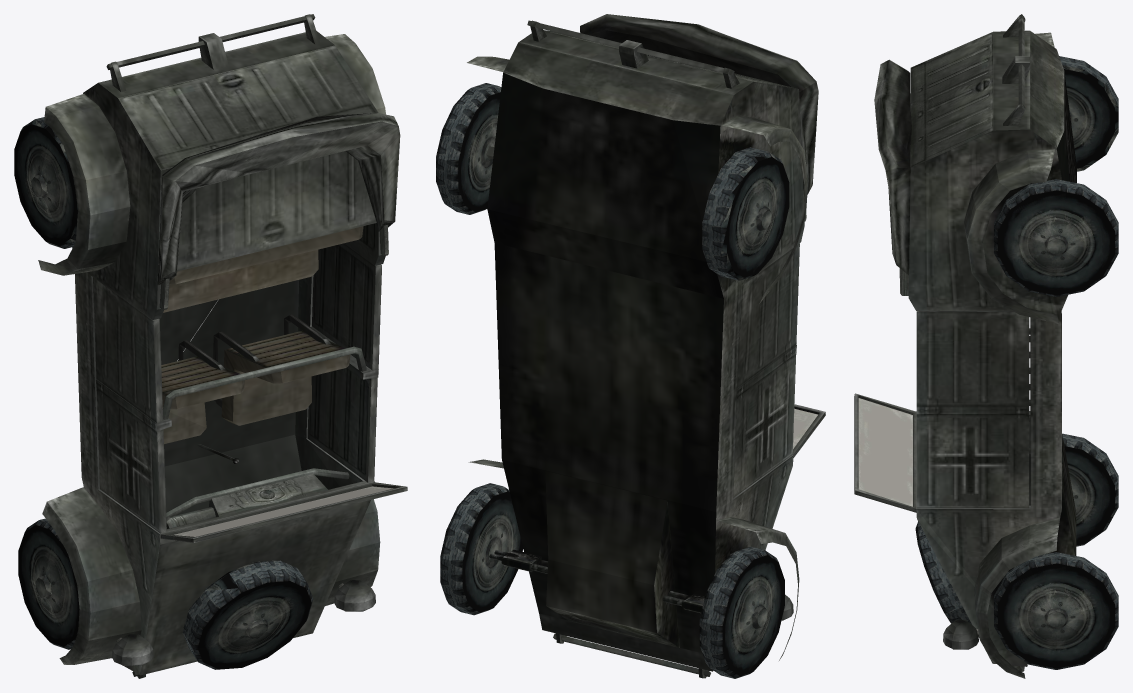
Rendered from static_vehicle_german_kubelwagen.glb.
The picture shows the model from 3 angles, left to right: view 1: azimuth 30°, elevation 25°; view 2: azimuth 150°, elevation 25°; view 3: azimuth 270°, elevation 25°; orthographic projection. The views are drawn at different scales.
Size of the model in its own units: 76.45 by 146 by 60.42.
4 materials, 4 textured.
